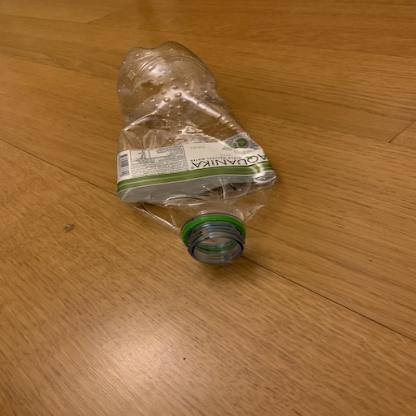trash: (110, 41, 282, 268)
